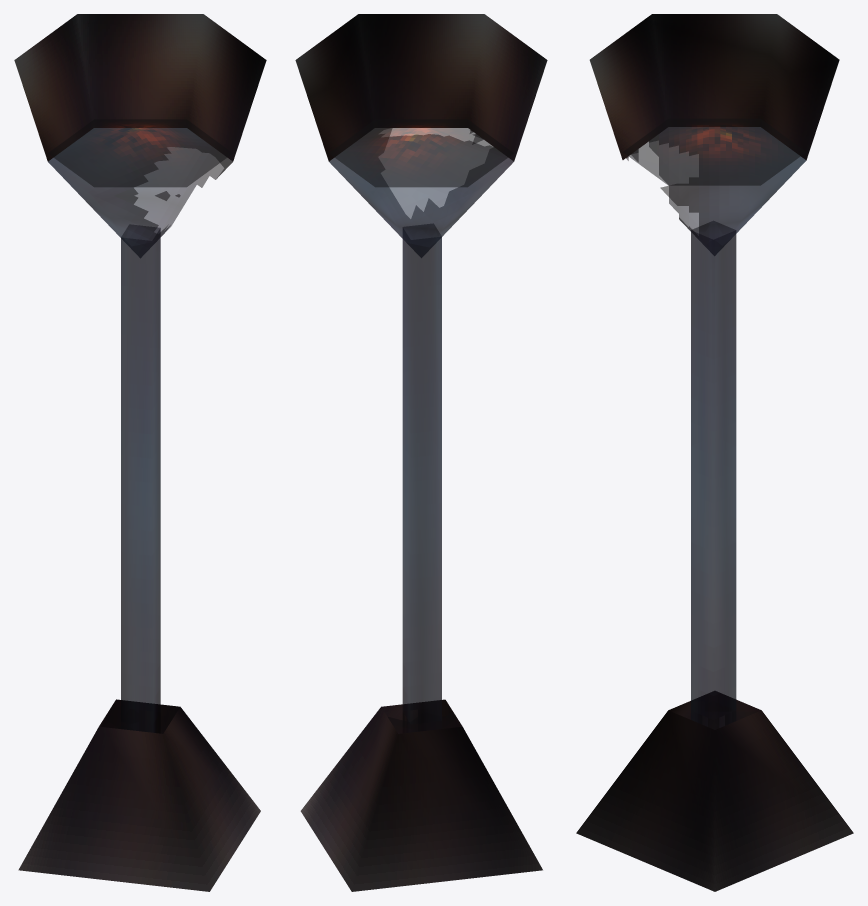
File: FireLight01.obj
3 renders of one model, left to right at view 1: azimuth 30°, elevation 25°; view 2: azimuth 150°, elevation 25°; view 3: azimuth 270°, elevation 25°, orthographic.
Visible parts, largest first — view 1: Mesh_0, Mesh_1, Mesh_2; view 2: Mesh_0, Mesh_1, Mesh_2; view 3: Mesh_0, Mesh_1, Mesh_2.
Part boxes in pixels (x1,y1,x2,y2): Mesh_0: (14, 14, 266, 891); Mesh_1: (48, 128, 232, 733); Mesh_2: (48, 119, 232, 187); Mesh_0: (295, 14, 547, 891); Mesh_1: (329, 128, 513, 733); Mesh_2: (329, 119, 513, 187); Mesh_0: (576, 14, 853, 891); Mesh_1: (626, 127, 806, 729); Mesh_2: (623, 118, 805, 185).
Bounding box in the file's own units: 0.5718 × 1.76 × 0.5718.
Materials: 3 (3 with a texture image).
